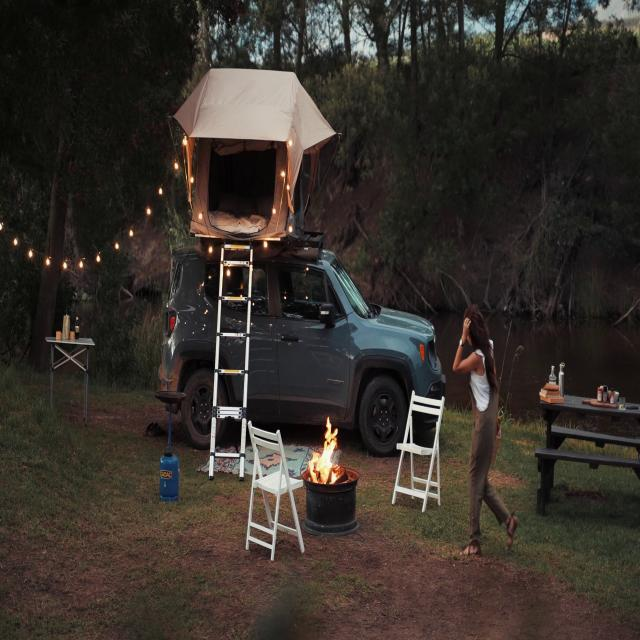Fire: (308, 413, 343, 486)
